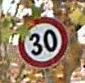limite 30: (17, 16, 69, 68)
